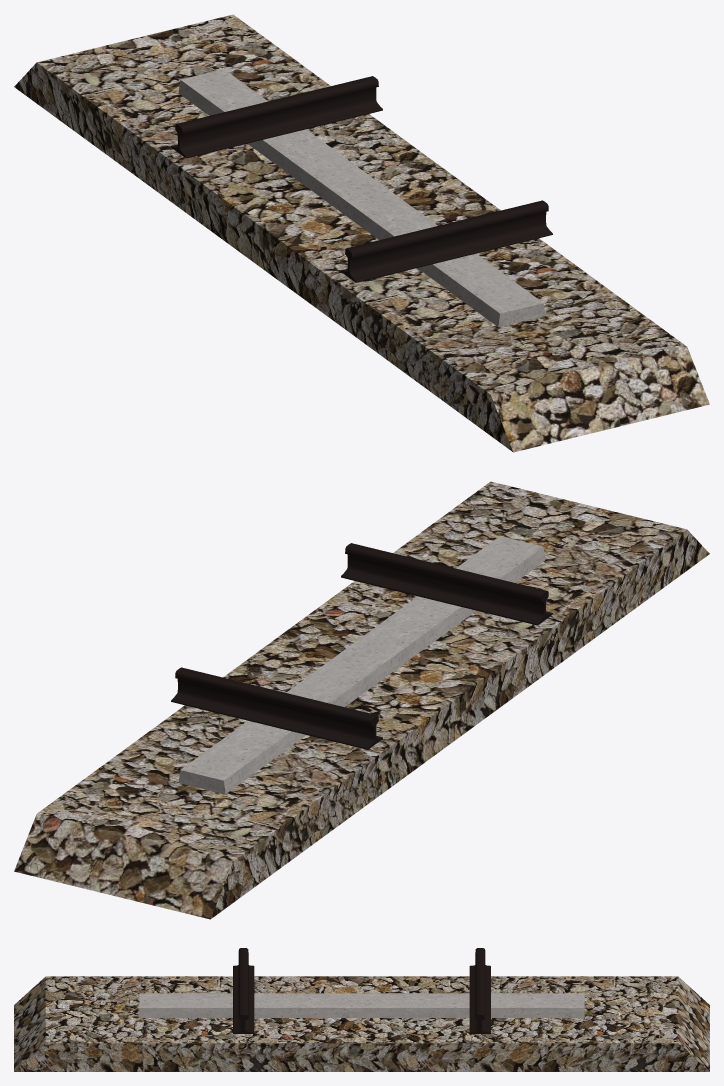
File: voiesFerreesDroit1m.obj
3 views of the same model, one above another, from view 1: azimuth 30°, elevation 25°; view 2: azimuth 150°, elevation 25°; view 3: azimuth 270°, elevation 25° (orthographic). The views are drawn at different scales.
Parts seen in each view (by area): view 1: ballastDroit1m_Plane.001, droit1m_BezierCurve.003, traverseDroit1m_Cube.001; view 2: ballastDroit1m_Plane.001, droit1m_BezierCurve.003, traverseDroit1m_Cube.001; view 3: ballastDroit1m_Plane.001, traverseDroit1m_Cube.001, droit1m_BezierCurve.003.
Part boxes in pixels (left/top/right/bottom): ballastDroit1m_Plane.001: left=14, top=14, right=709, bottom=452; droit1m_BezierCurve.003: left=171, top=76, right=552, bottom=282; traverseDroit1m_Cube.001: left=178, top=69, right=545, bottom=327; ballastDroit1m_Plane.001: left=14, top=481, right=709, bottom=919; droit1m_BezierCurve.003: left=171, top=543, right=552, bottom=749; traverseDroit1m_Cube.001: left=178, top=536, right=545, bottom=794; ballastDroit1m_Plane.001: left=14, top=976, right=709, bottom=1071; traverseDroit1m_Cube.001: left=139, top=993, right=584, bottom=1017; droit1m_BezierCurve.003: left=233, top=948, right=490, bottom=1033.
Size of the model in its own units: 100 by 39.86 by 440.
Materials: 3 (2 with a texture image).
